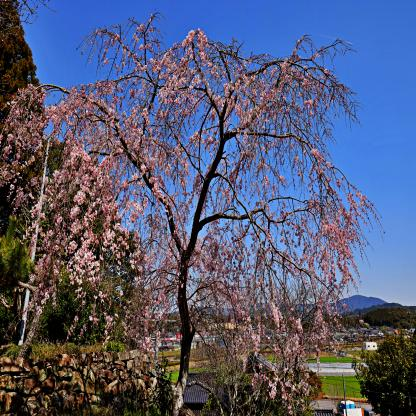ShidareZakura: (0, 7, 388, 416)
